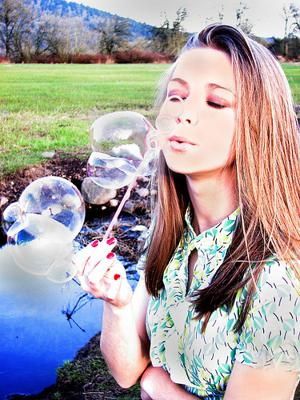person: (74, 22, 298, 396)
